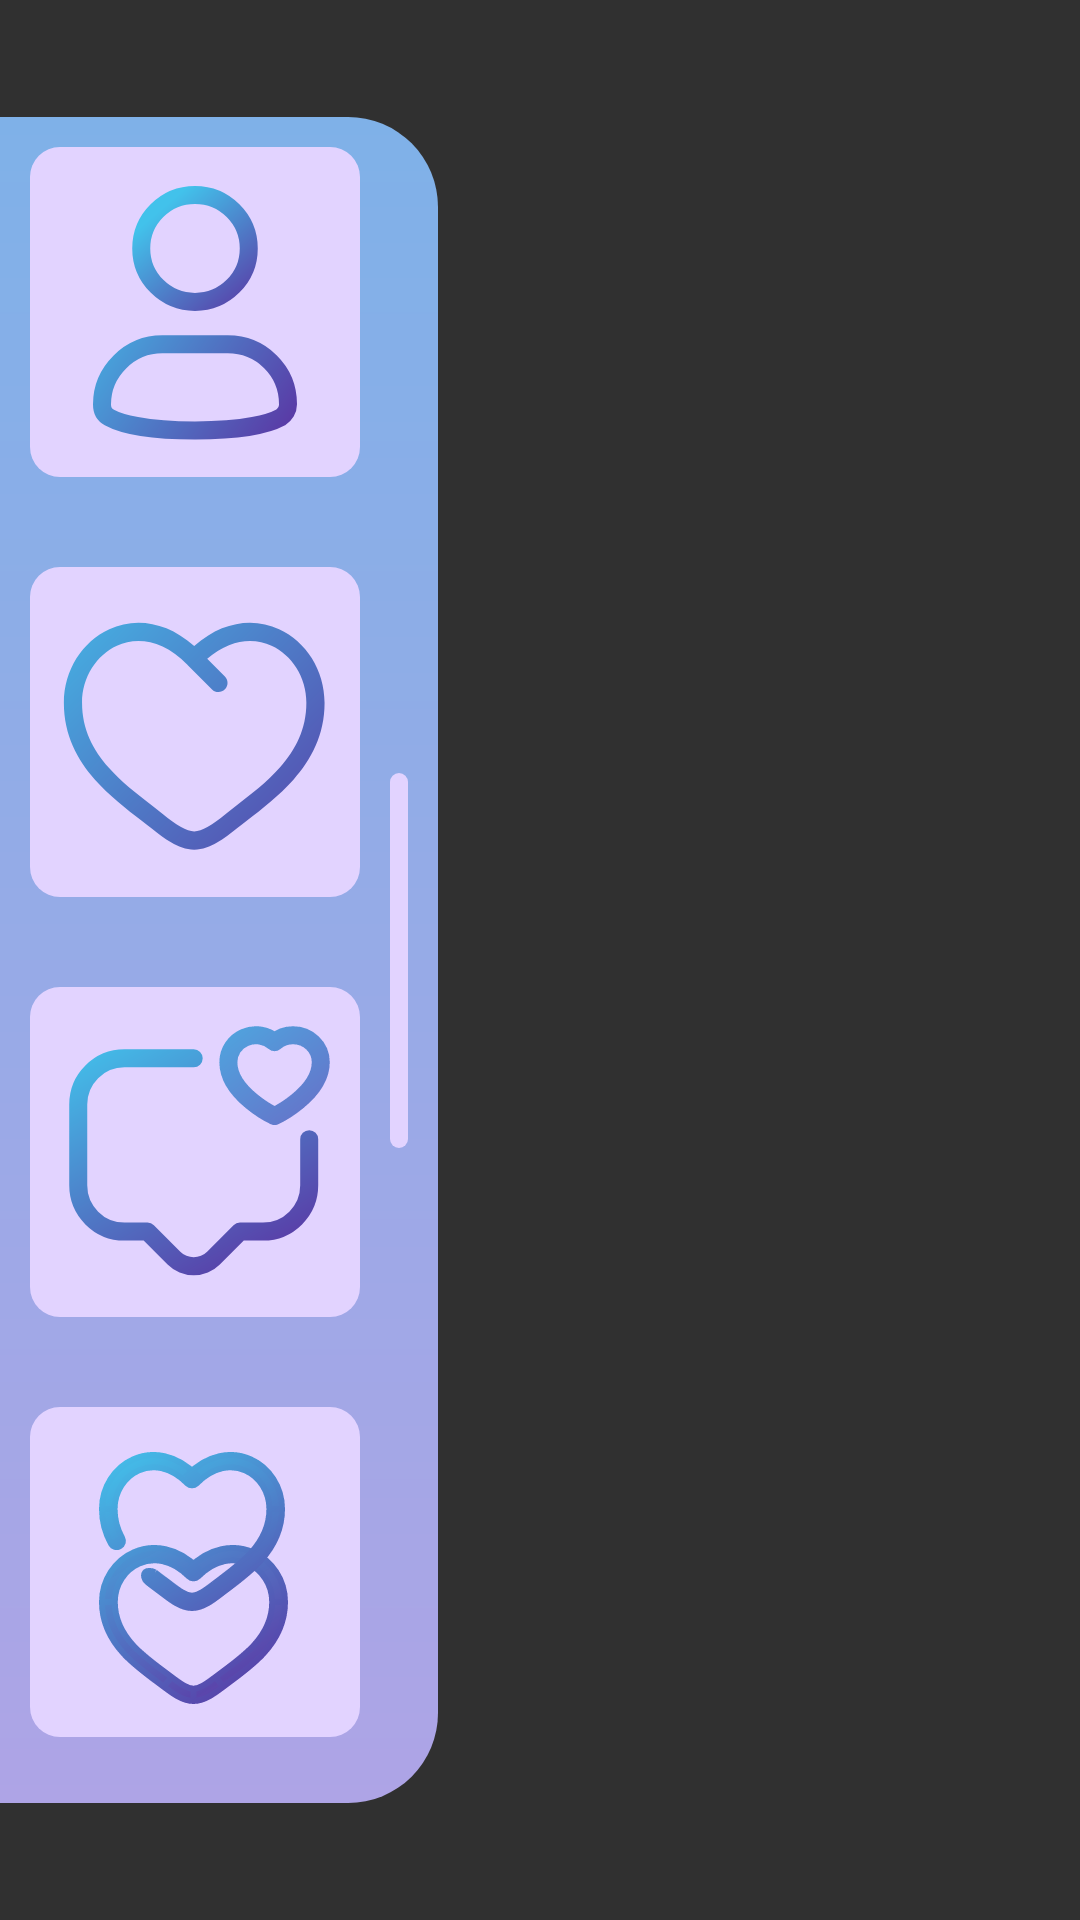

Named icons in this screenshot (1080 x 1920) and their bounding boxes, (x1, y1, x2, y2):
Кнопка лайков: (30, 567, 360, 897)
Кнопка профиля: (30, 147, 360, 477)
Кнопка сообщений: (30, 987, 360, 1317)
